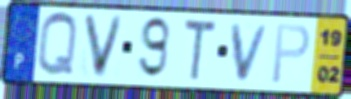9: (134, 16, 172, 83)
P: (269, 23, 313, 86)
Q: (35, 10, 80, 80)
T: (181, 16, 219, 84)
V: (81, 12, 127, 81), (228, 22, 273, 83)
